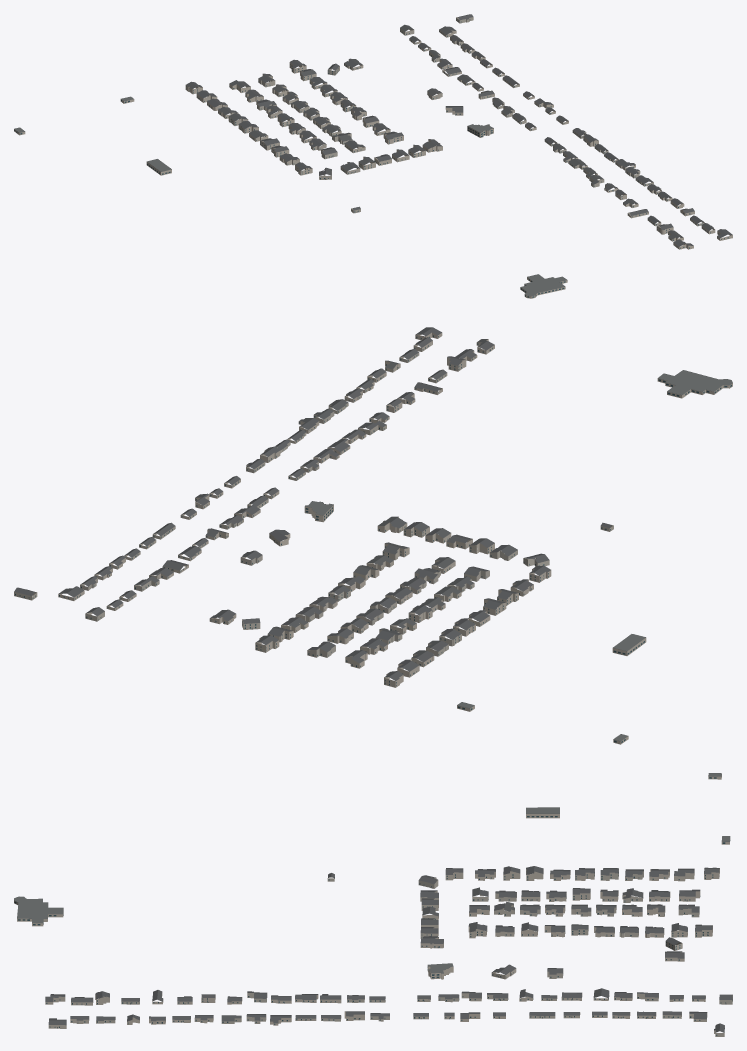
The picture shows the model from 3 angles, top to bottom: view 1: azimuth 30°, elevation 25°; view 2: azimuth 150°, elevation 25°; view 3: azimuth 270°, elevation 25°; orthographic projection. The views are drawn at different scales.
Parts seen in each view (by area): view 1: Buildings (0, 5) Roof shingles, Buildings (0, 5) Masonry brick, Buildings (0, 5) House siding, Buildings (0, 5) Architectural tinted glass, Buildings (0, 5) Roof membrane; view 2: Buildings (0, 5) Roof shingles, Buildings (0, 5) Masonry brick, Buildings (0, 5) House siding, Buildings (0, 5) Roof membrane, Buildings (0, 5) Architectural tinted glass; view 3: Buildings (0, 5) Roof shingles, Buildings (0, 5) Masonry brick, Buildings (0, 5) House siding, Buildings (0, 5) Roof membrane, Buildings (0, 5) Architectural tinted glass.
Boxes of the visible parts, x1,y1,x2,y2 form: Buildings (0, 5) Roof shingles: (186,14,732,246); Buildings (0, 5) Masonry brick: (14,29,732,298); Buildings (0, 5) House siding: (218,17,704,226); Buildings (0, 5) Architectural tinted glass: (14,19,728,297); Buildings (0, 5) Roof membrane: (14,96,566,296); Buildings (0, 5) Roof shingles: (14,327,611,681); Buildings (0, 5) Masonry brick: (58,332,732,744); Buildings (0, 5) House siding: (14,352,613,657); Buildings (0, 5) Roof membrane: (305,370,732,741); Buildings (0, 5) Architectural tinted glass: (15,335,731,742); Buildings (0, 5) Roof shingles: (45,866,732,1032); Buildings (0, 5) Masonry brick: (14,775,730,1028); Buildings (0, 5) House siding: (96,869,732,1036); Buildings (0, 5) Roof membrane: (14,773,730,973); Buildings (0, 5) Architectural tinted glass: (14,777,732,1035).
Bounding box in the file's own units: 668 × 14.64 × 773.
